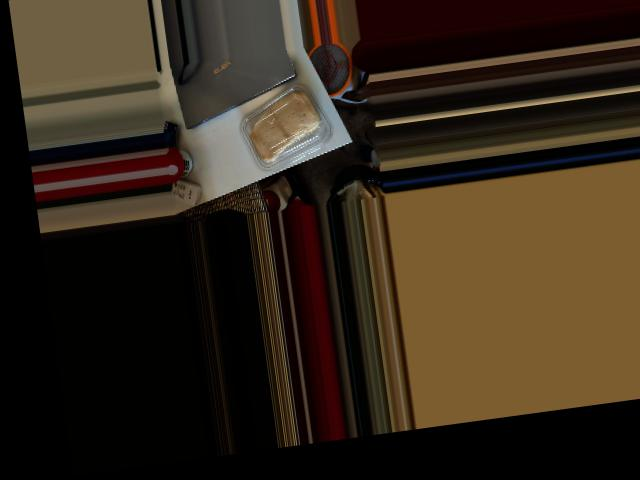cheese: (231, 78, 342, 175)
